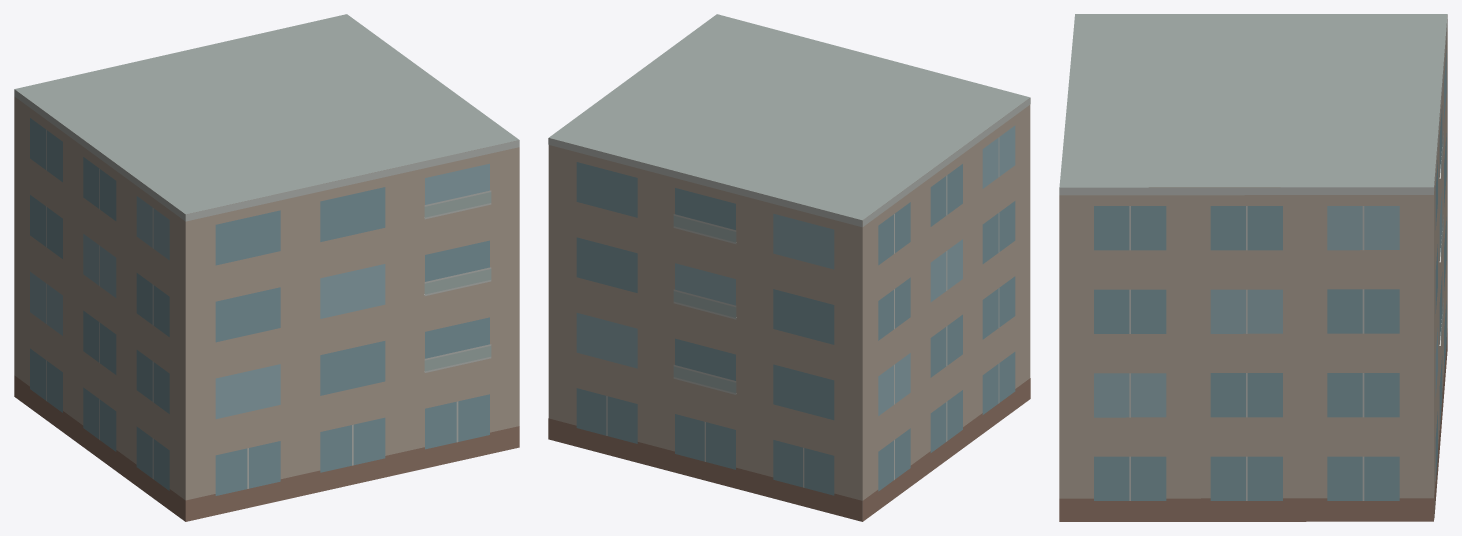
Rendered from survey-upis-32912124.glb.
3 renders of one model, left to right at view 1: azimuth 30°, elevation 25°; view 2: azimuth 150°, elevation 25°; view 3: azimuth 270°, elevation 25°, orthographic. The views are drawn at different scales.
Visible parts, largest first — view 1: survey-upis-32912124.tmp; view 2: survey-upis-32912124.tmp; view 3: survey-upis-32912124.tmp.
Part boxes in pixels (x1,y1,x2,y2): survey-upis-32912124.tmp: (14, 14, 519, 521); survey-upis-32912124.tmp: (548, 14, 1030, 521); survey-upis-32912124.tmp: (1059, 14, 1447, 521).
Bounding box in the file's own units: 11.7 × 10.5 × 11.06.
